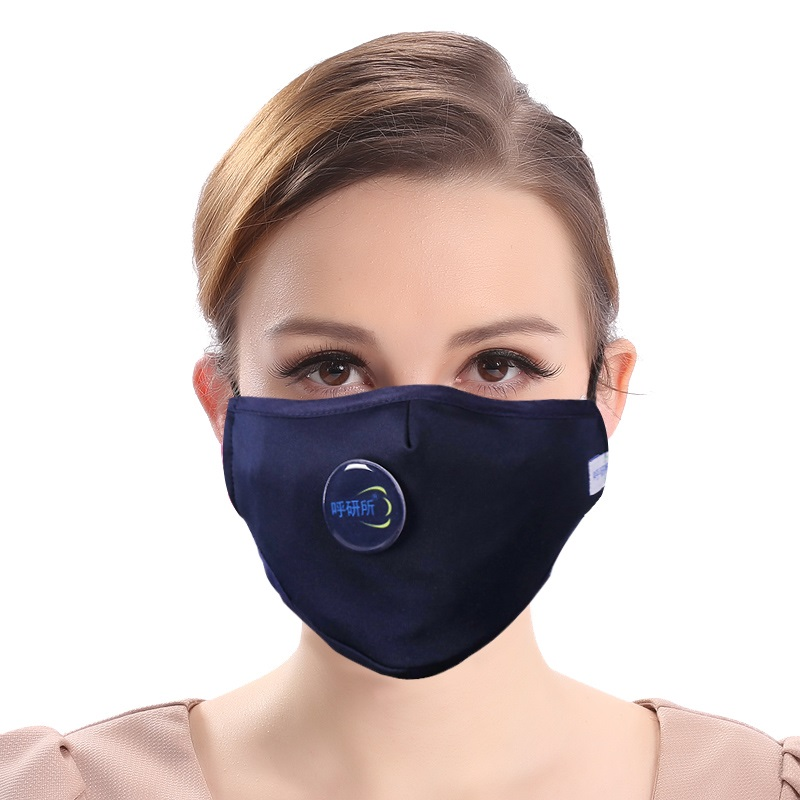face_mask: (224, 184, 587, 642)
